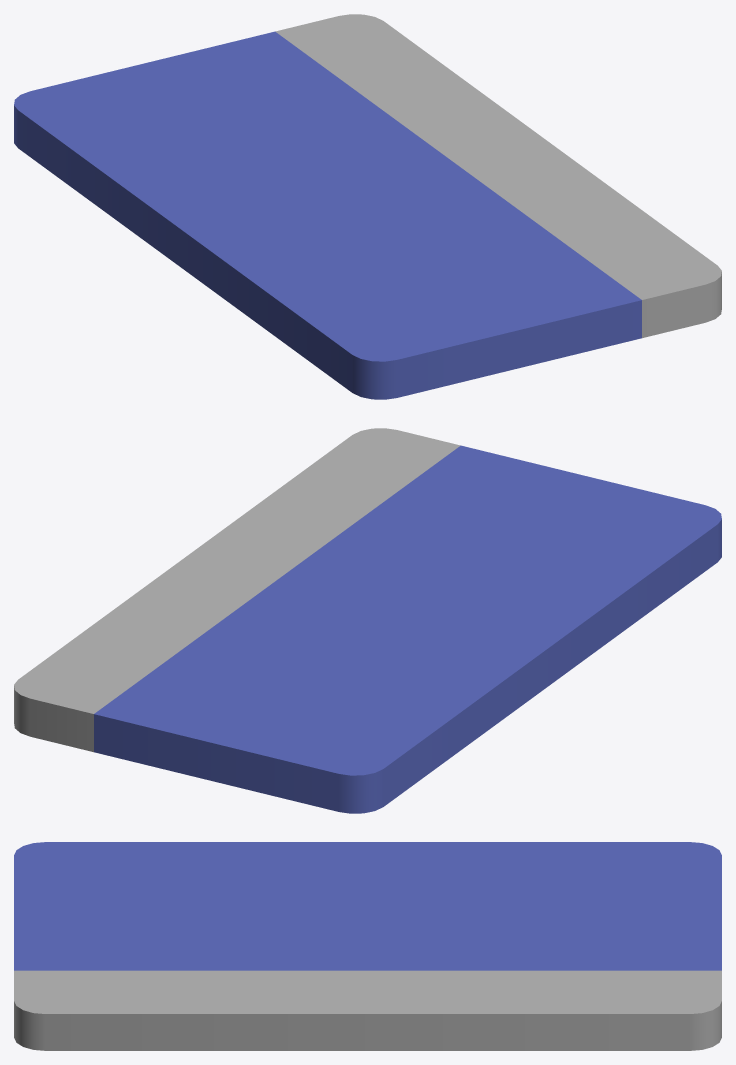
File: Card.fbx
3 renders of one model, top to bottom at view 1: azimuth 30°, elevation 25°; view 2: azimuth 150°, elevation 25°; view 3: azimuth 270°, elevation 25°, orthographic. The views are drawn at different scales.
Parts seen in each view (by area): view 1: Card; view 2: Card; view 3: Card.
Boxes of the visible parts, left/top/right/bottom form: Card: left=14, top=14, right=721, bottom=399; Card: left=14, top=428, right=721, bottom=813; Card: left=14, top=842, right=721, bottom=1050.
Bounding box in the file's own units: 4.26 × 0.4252 × 7.41.
1 material, 1 textured.
